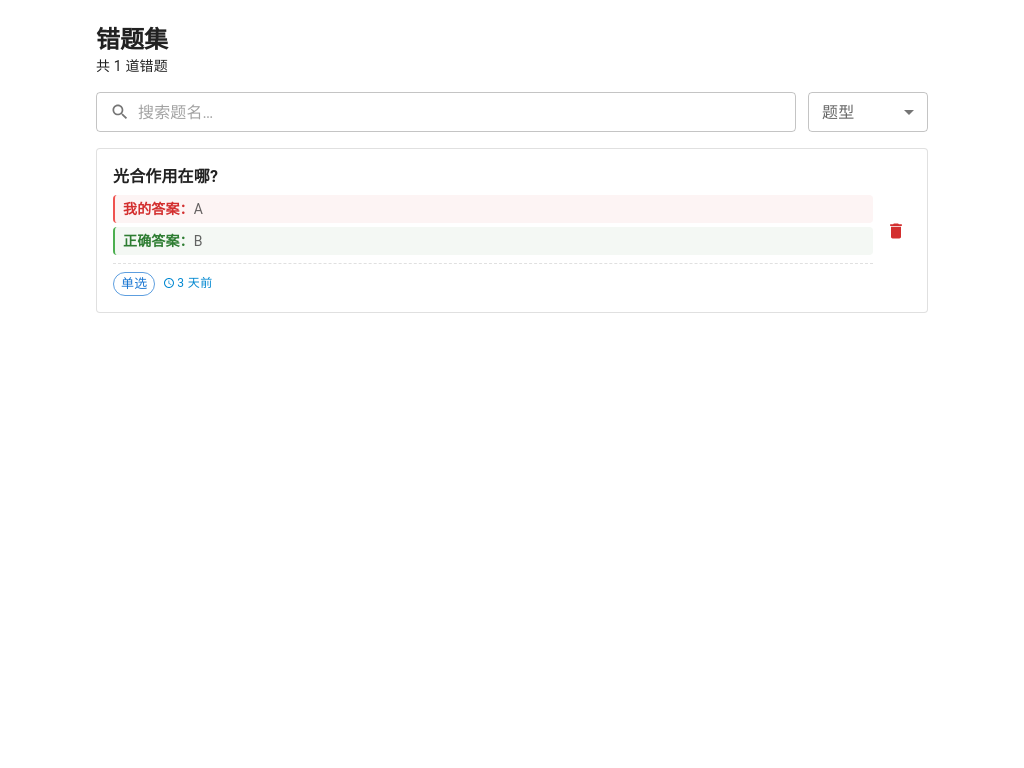
Test: WrongAnswersView › 详情弹框显示答错时间
Click the text "光合作用在哪?" at [166, 176], box [113,167,218,186]
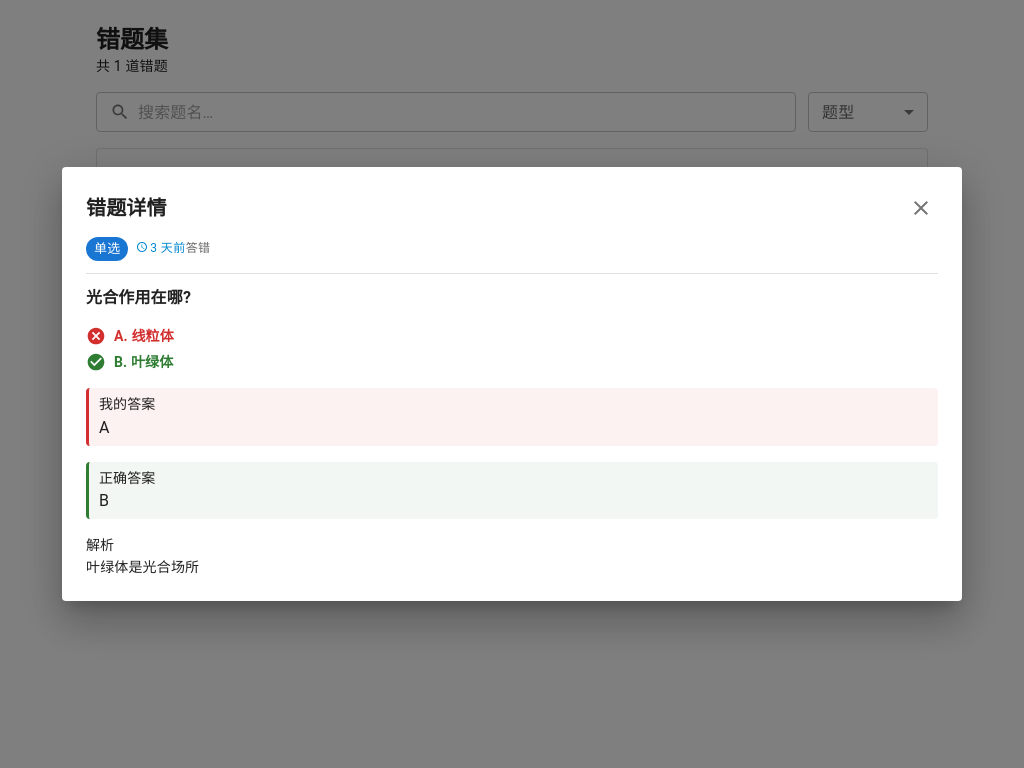
Expected: the text "3 天前" below "正确答案：" is shown, [177,276,213,290]
Now the heading "错题详情" is shown, box [86,192,167,224]
Now the text "答错" is shown, box [186,241,210,255]
